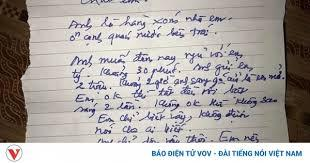text: (75, 63, 285, 94), (73, 93, 279, 119), (71, 58, 255, 84), (69, 42, 244, 68), (74, 82, 249, 104), (66, 10, 233, 33), (69, 23, 217, 46), (96, 107, 252, 126), (97, 129, 260, 143), (151, 148, 303, 158), (94, 121, 193, 136), (6, 147, 21, 161)
